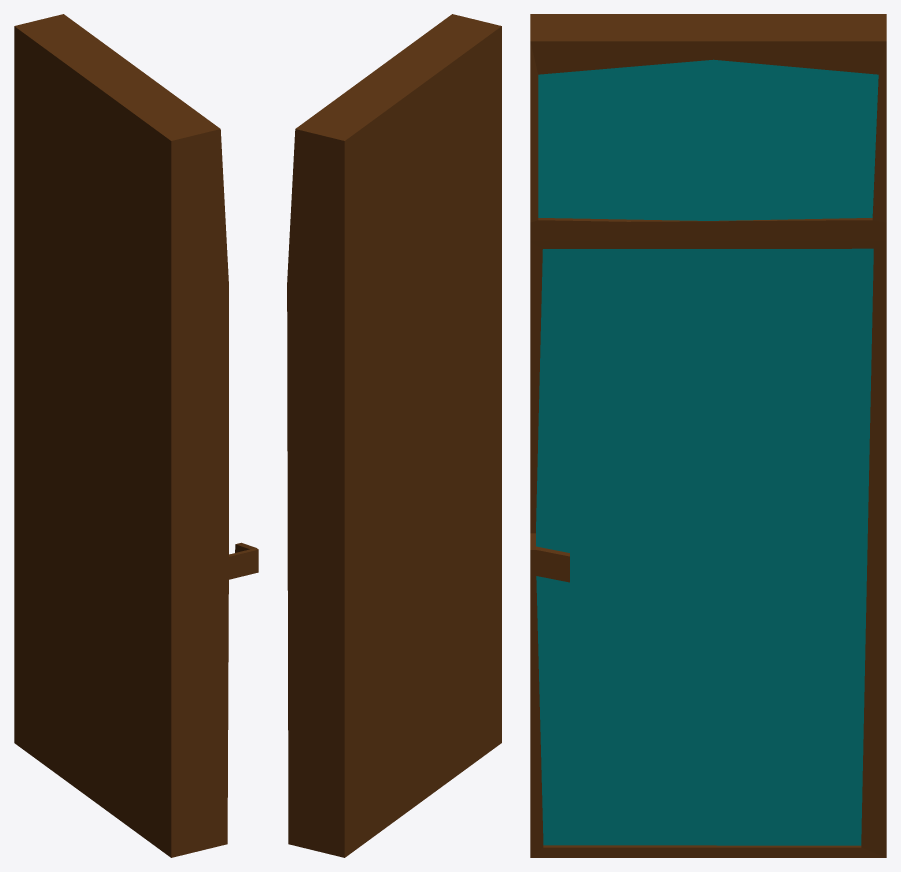
File: HatShopDoor.fbx
3 renders of one model, left to right at view 1: azimuth 30°, elevation 25°; view 2: azimuth 150°, elevation 25°; view 3: azimuth 270°, elevation 25°, orthographic. The views are drawn at different scales.
Parts seen in each view (by area): view 1: Cube.013; view 2: Cube.013; view 3: Cube.013.
Boxes of the visible parts, bbox=[...] form: Cube.013: bbox=[14, 14, 258, 857]; Cube.013: bbox=[287, 14, 501, 857]; Cube.013: bbox=[530, 14, 886, 857].
Size of the model in its own units: 38.15 by 119 by 298.
